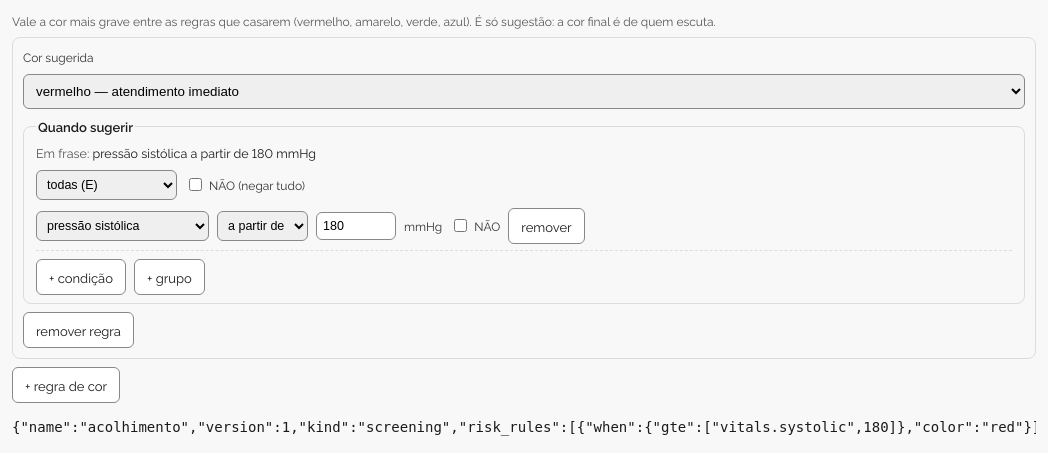
Scenario: RiskRulesPanel › remover a última deixa a lista vazia no JSON e pede uma regra
Step 1. Click the button "remover regra" → (78, 330), box [23,312,134,348]
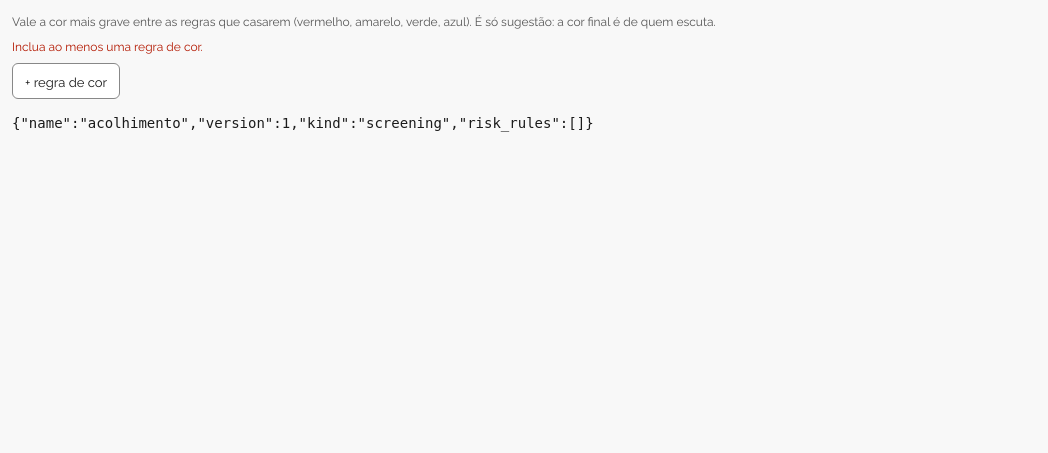
Now the message reads "Inclua ao menos uma regra de cor.", box [12,37,203,54]
